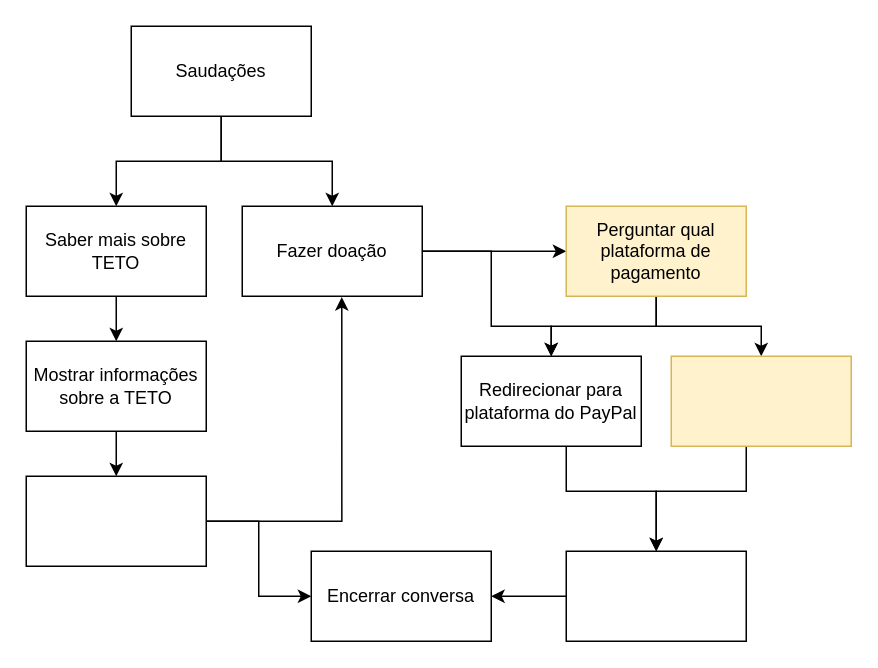
The diagram is 878 pixels wide and 668 high, and some of its shapes have lost their labels. Each missing label, with the centre of its shape:
Agradecer a doação: (655,595)
Perguntar se quer fazer doação: (115,520)
Redirecionar para plataforma do Stripe: (760,400)
